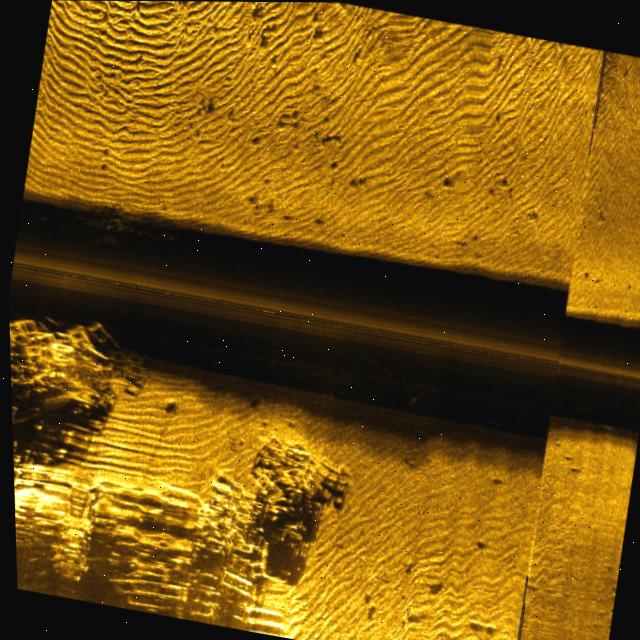artificial reef: (171, 393, 365, 568), (7, 307, 165, 434), (55, 203, 207, 278)
